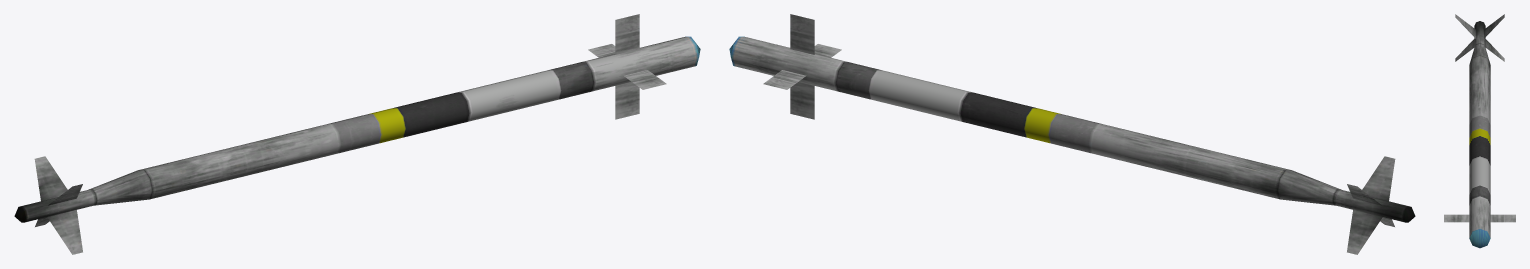
The model's file is projectile_stinger_missile_LOD0.obj.
The picture shows the model from 3 angles, left to right: view 1: azimuth 30°, elevation 25°; view 2: azimuth 150°, elevation 25°; view 3: azimuth 270°, elevation 25°; orthographic projection. The views are drawn at different scales.
Parts seen in each view (by area): view 1: mtl_weapon_stinger_missle; view 2: mtl_weapon_stinger_missle; view 3: mtl_weapon_stinger_missle.
Part boxes in pixels (bbox=[...]): mtl_weapon_stinger_missle: bbox=[14, 14, 700, 254]; mtl_weapon_stinger_missle: bbox=[729, 14, 1415, 254]; mtl_weapon_stinger_missle: bbox=[1444, 14, 1515, 248].
Bounding box in the file's own units: 141 × 19.65 × 19.65.
